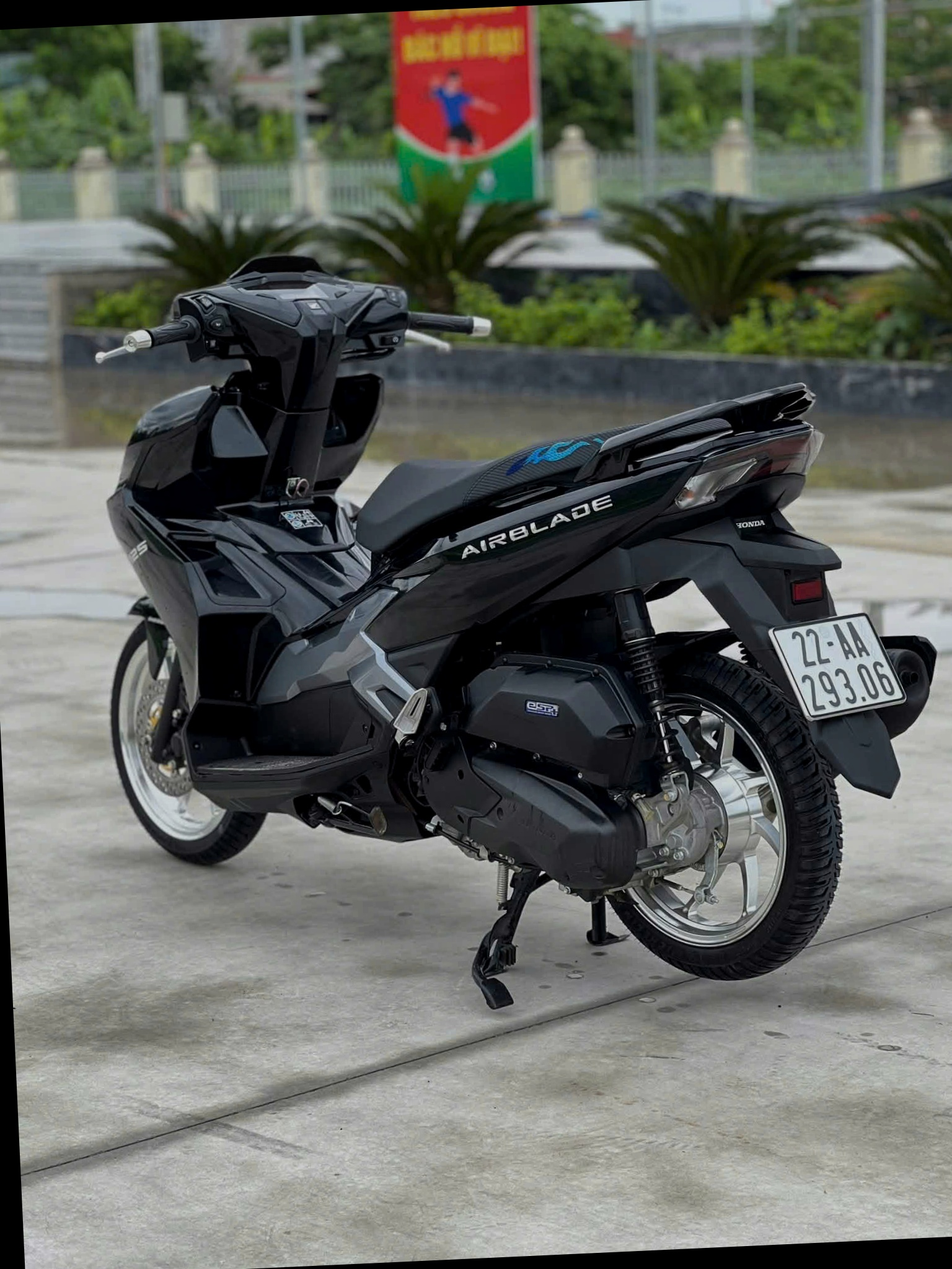Bien-so: (770, 605, 910, 720)
